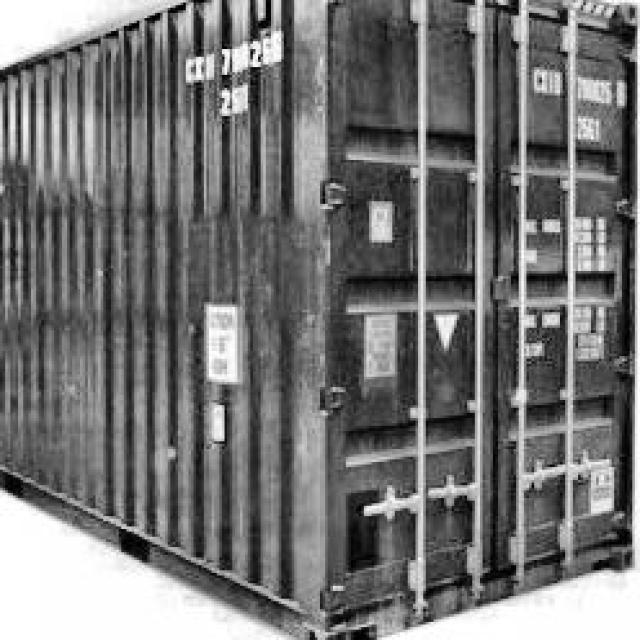ISO: (572, 118, 604, 140)
container_number: (532, 75, 626, 104)
